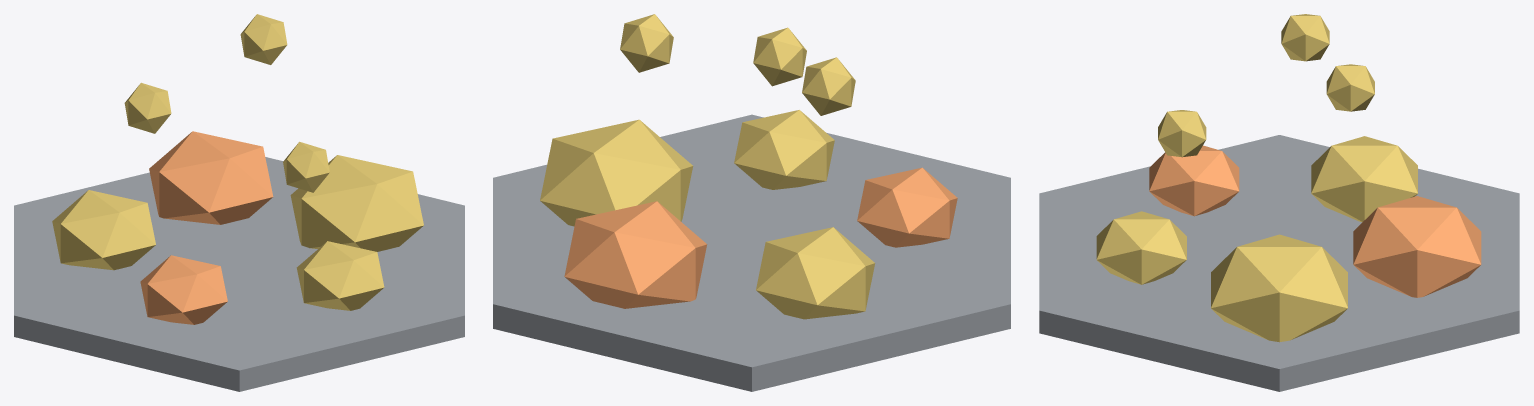
The model's file is animprop_campfire_ember_01.glb.
3 renders of one model, left to right at view 1: azimuth 30°, elevation 25°; view 2: azimuth 150°, elevation 25°; view 3: azimuth 270°, elevation 25°, orthographic. The views are drawn at different scales.
Visible parts, largest first — view 1: animprop; view 2: animprop; view 3: animprop.
Part boxes in pixels (box(x1,y1,x2,y2)): animprop: box(14, 14, 464, 391); animprop: box(493, 14, 1010, 391); animprop: box(1039, 14, 1519, 391).
Bounding box in the file's own units: 0.88 × 0.4183 × 0.7621.
